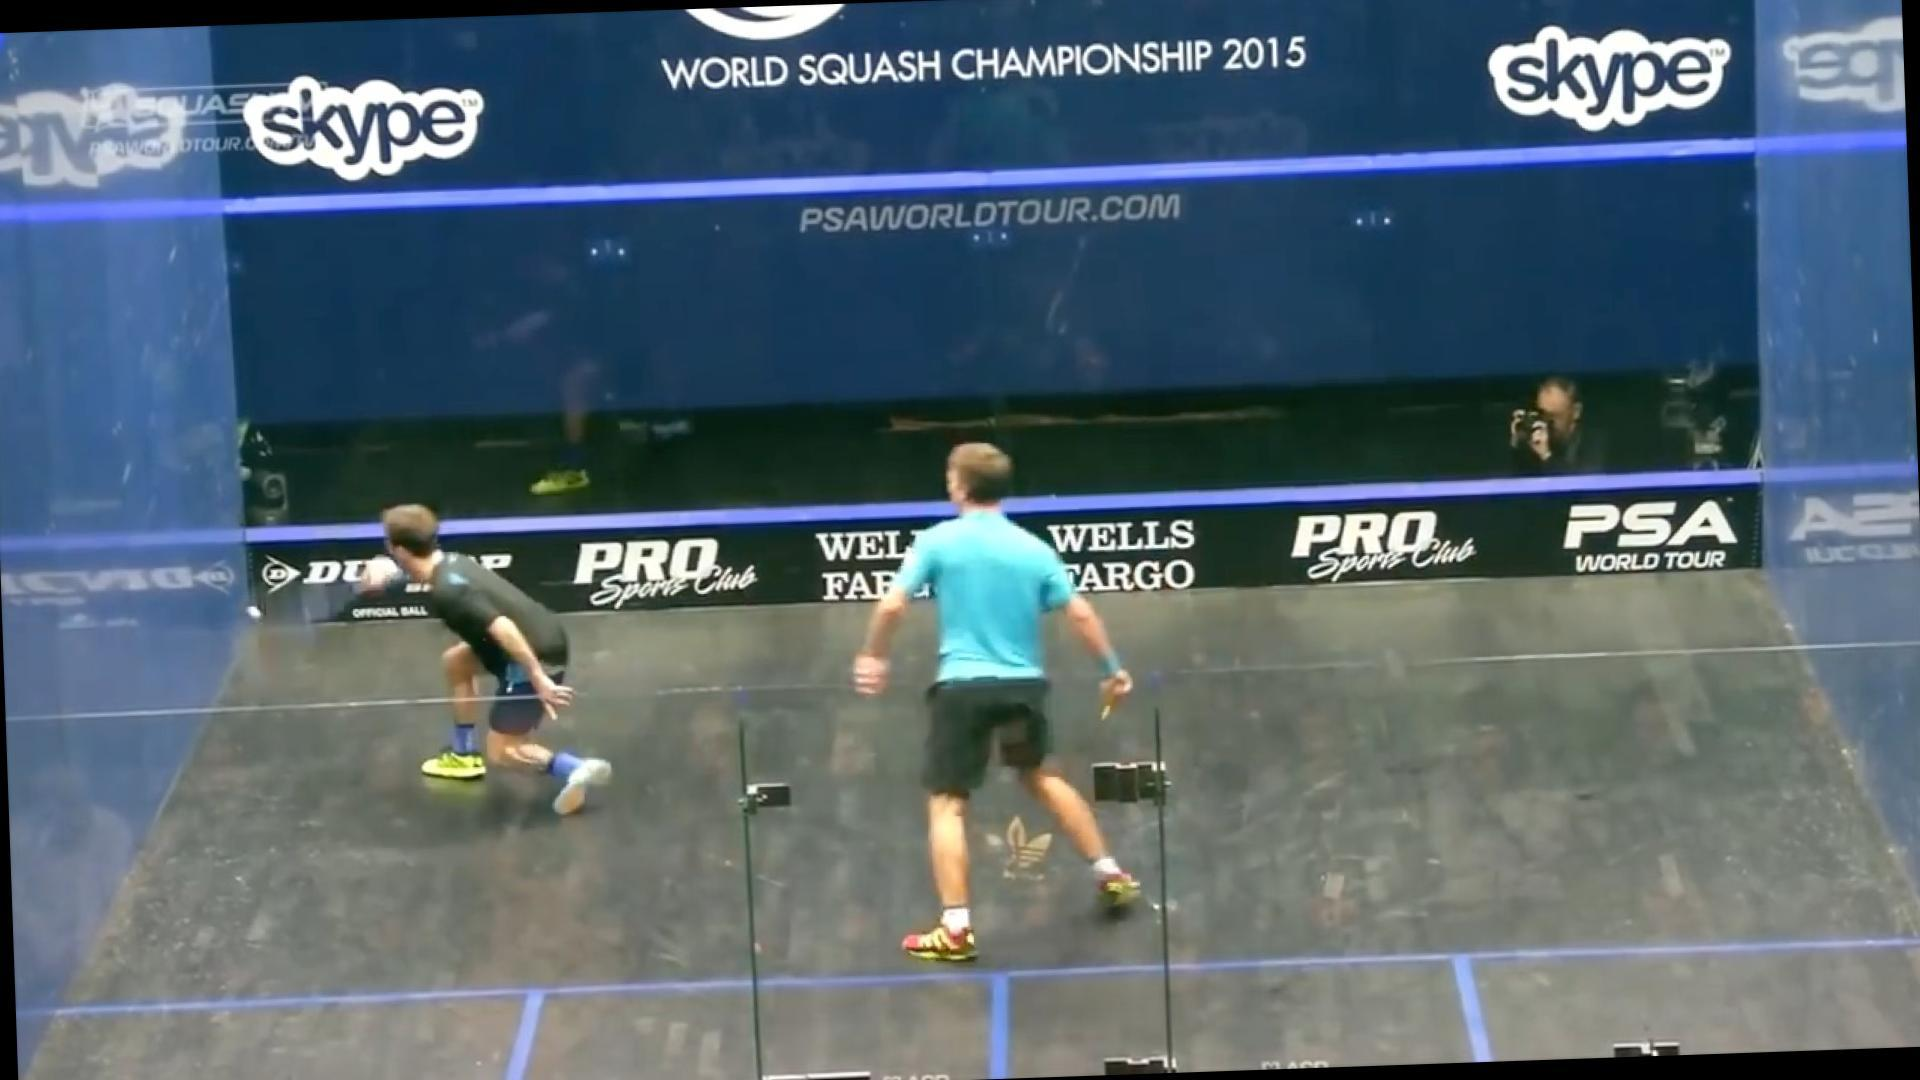Squash-Ball: (232, 588, 289, 646)
